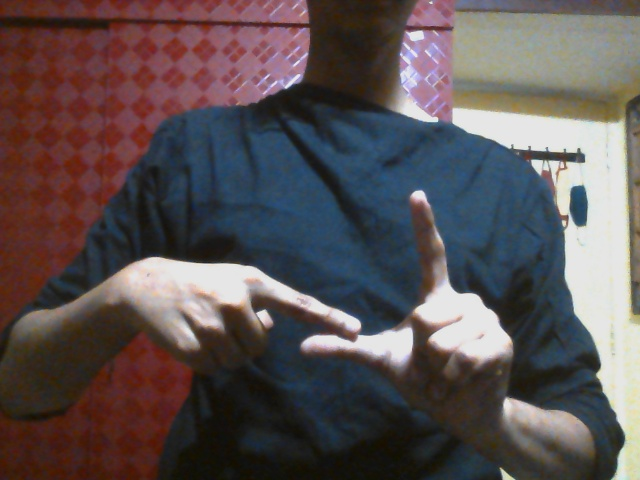J: (181, 186, 511, 401)
